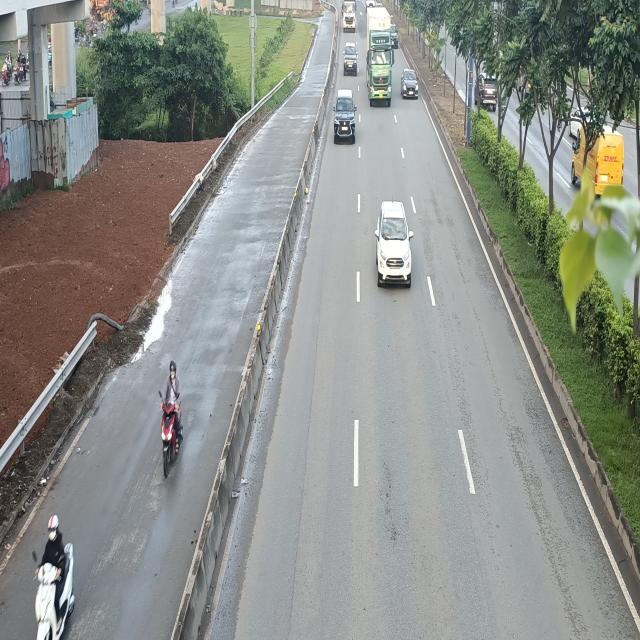car: (377, 201, 416, 288), (334, 88, 358, 143), (401, 69, 420, 101)
container: (366, 6, 394, 107)
truck: (343, 0, 357, 30)
